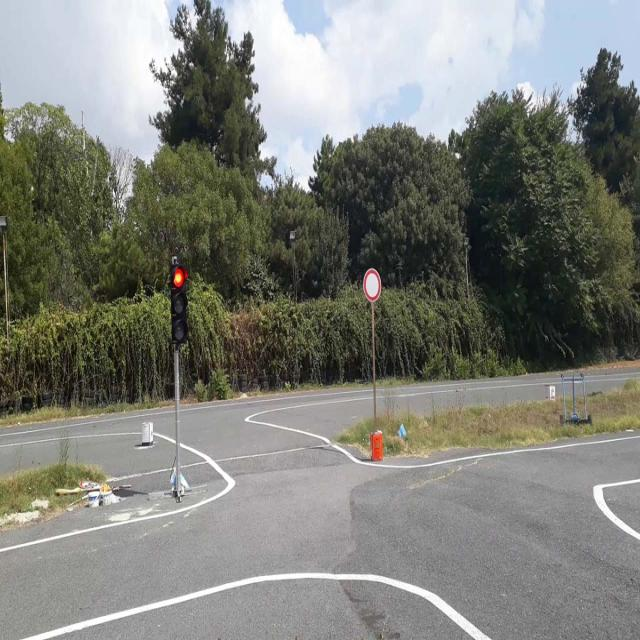kirmizi: (170, 266, 186, 344)
